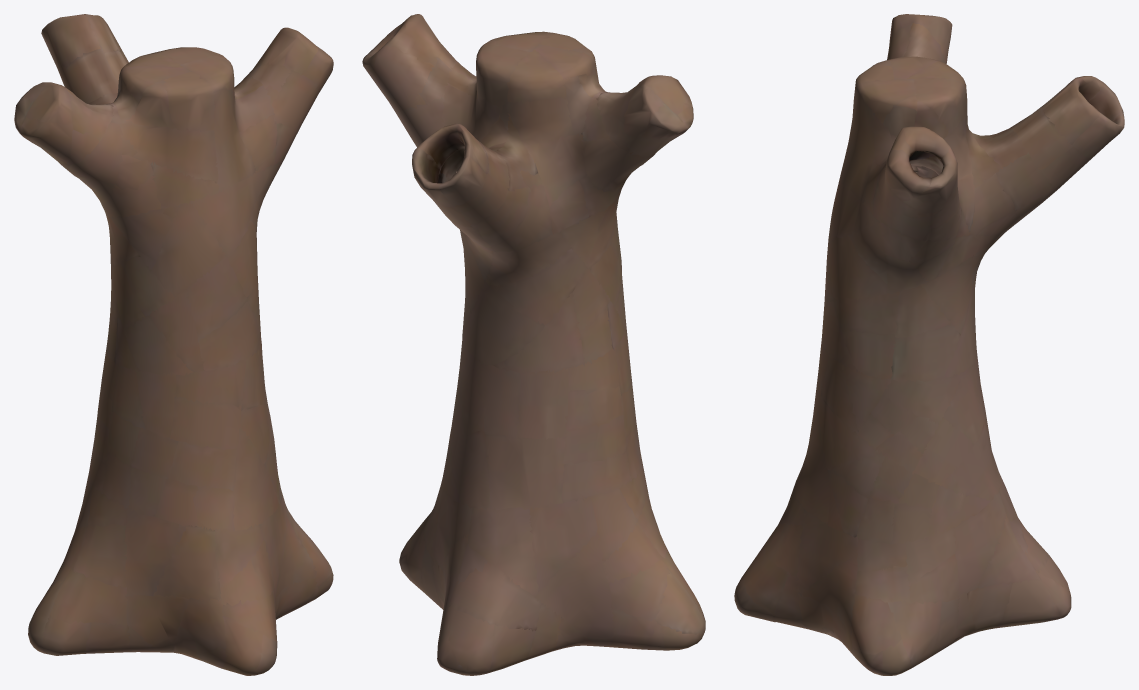
File: Log_Green_Cauliflower.glb
3 renders of one model, left to right at view 1: azimuth 30°, elevation 25°; view 2: azimuth 150°, elevation 25°; view 3: azimuth 270°, elevation 25°, orthographic. The views are drawn at different scales.
Bounding box in the file's own units: 1.16 × 2 × 1.3.
1 material, 1 textured.
